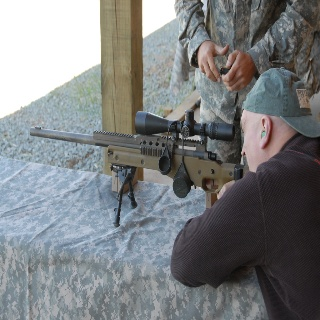rifle: (29, 107, 241, 232)
